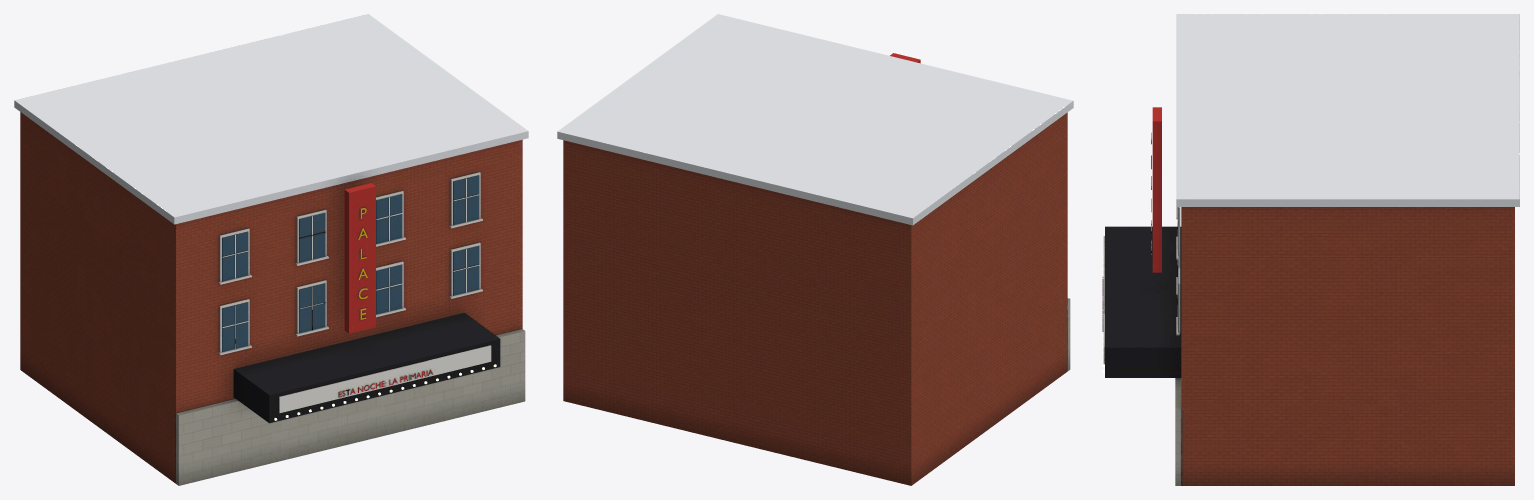
Rendered from teatro_palace.glb.
The picture shows the model from 3 angles, left to right: view 1: azimuth 30°, elevation 25°; view 2: azimuth 150°, elevation 25°; view 3: azimuth 270°, elevation 25°; orthographic projection. The views are drawn at different scales.
Visible parts, largest first — view 1: teatro_palace; view 2: teatro_palace; view 3: teatro_palace.
Part boxes in pixels (bbox=[...]): teatro_palace: bbox=[14, 14, 528, 485]; teatro_palace: bbox=[557, 14, 1073, 485]; teatro_palace: bbox=[1102, 14, 1519, 485].
Bounding box in the file's own units: 18.4 × 13.35 × 17.52.
Materials: 1 (1 with a texture image).
